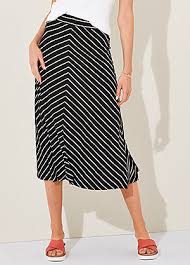C_skirt: (26, 11, 153, 196)
